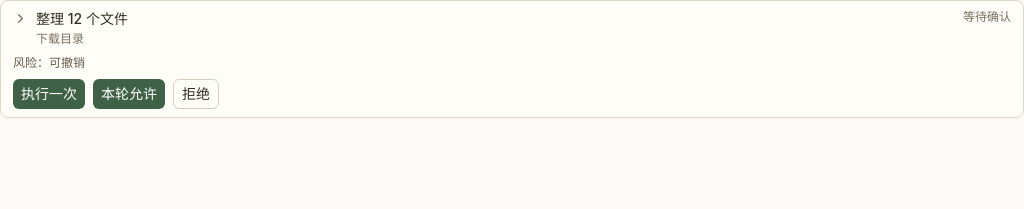
Test case: SecretaryToolStep › expands preview detail without duplicating its title
Click the button named "展开详情" at (20,18), box [13,11,28,26]
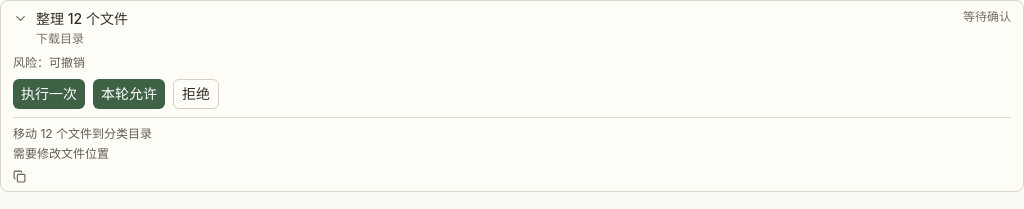
expect the text "整理 12 个文件" is shown once: met, box [36,10,128,27]
expect the text "移动 12 个文件到分类目录" is shown: met, box [13,126,152,141]
